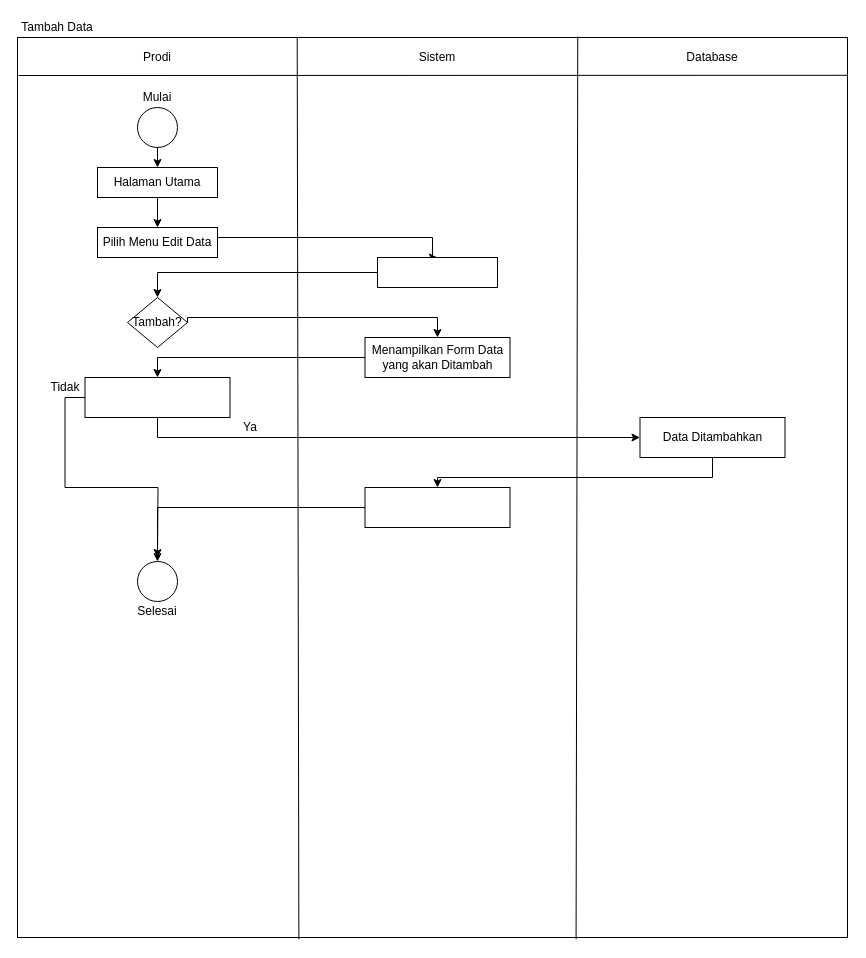
Image size: 866x958. Some labels were removed from this diagram. The box of each missing label's shape, as (x1, y1, x2, y2) in pixels:
Menampilkan Semua Data: (376, 256, 498, 288)
Mengisi Form: (84, 376, 230, 418)
Notifikasi Data berhasil Ditambahkan: (364, 486, 510, 528)
